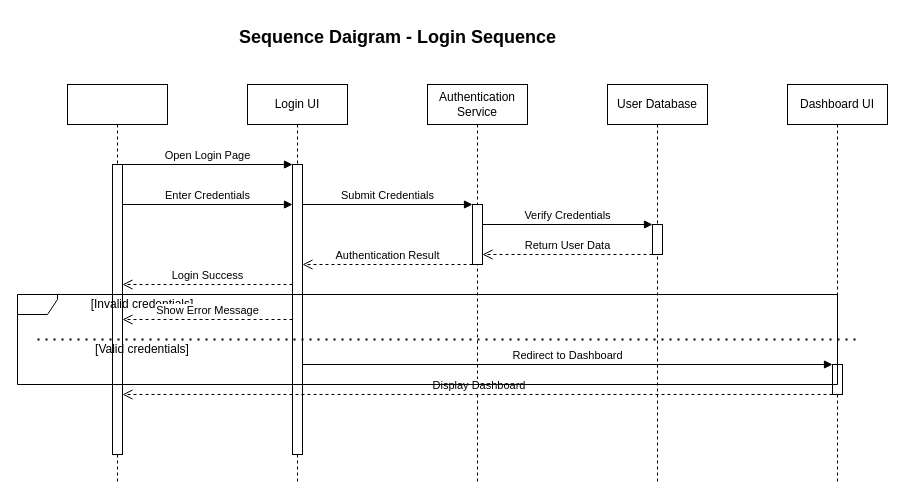
Image size: 905x502. Some labels were removed from this diagram. The shapes that lost their labels are listed below. From the top down, each one's box as (x1, y1, x2, y2) in pixels, then its label:
(66, 84, 168, 484): Customer (Student/Faculty)
(16, 294, 838, 384): alt
